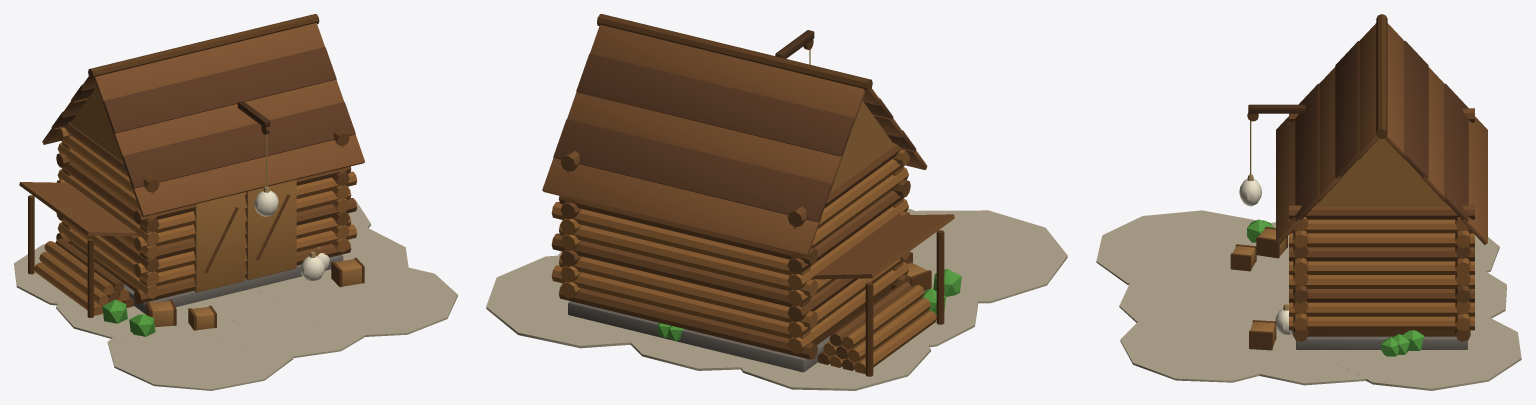
File: magazyn_poz08.glb
3 renders of one model, left to right at view 1: azimuth 30°, elevation 25°; view 2: azimuth 150°, elevation 25°; view 3: azimuth 270°, elevation 25°, orthographic. The views are drawn at different scales.
Parts seen in each view (by area): view 1: magazyn_poz08; view 2: magazyn_poz08; view 3: magazyn_poz08.
Part boxes in pixels (x1,y1,x2,y2): magazyn_poz08: (14, 14, 457, 390); magazyn_poz08: (486, 14, 1067, 390); magazyn_poz08: (1096, 14, 1521, 390).
Bounding box in the file's own units: 8.86 × 5.43 × 8.91.
